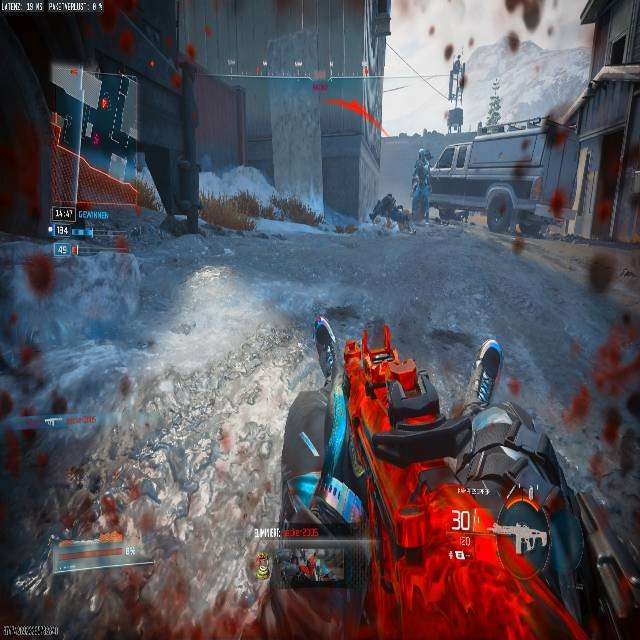player: (284, 323, 571, 639), (369, 193, 408, 237)
